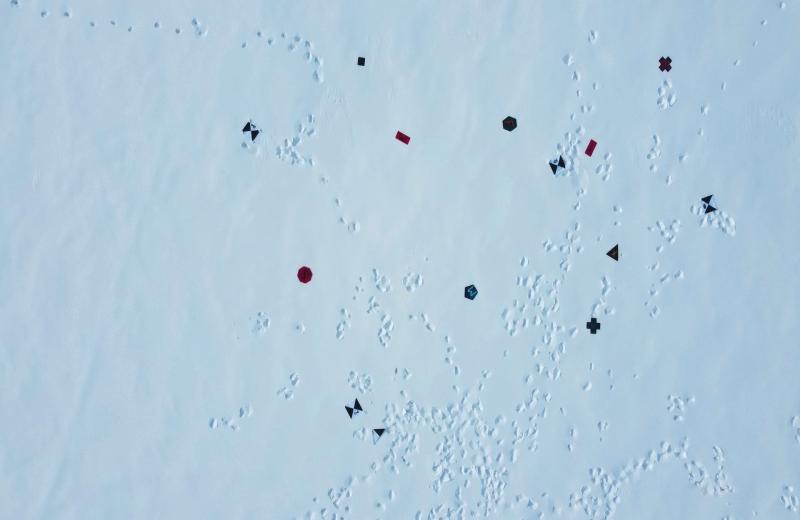Cross: (586, 317, 600, 336), (658, 56, 672, 72)
Hexagon: (501, 114, 518, 133)
Octagon: (296, 264, 314, 285)
Pentagon: (463, 282, 479, 301)
Rectangle: (583, 138, 598, 157), (394, 129, 411, 145)
Square: (357, 56, 366, 68)
Triangle: (605, 243, 620, 262)
